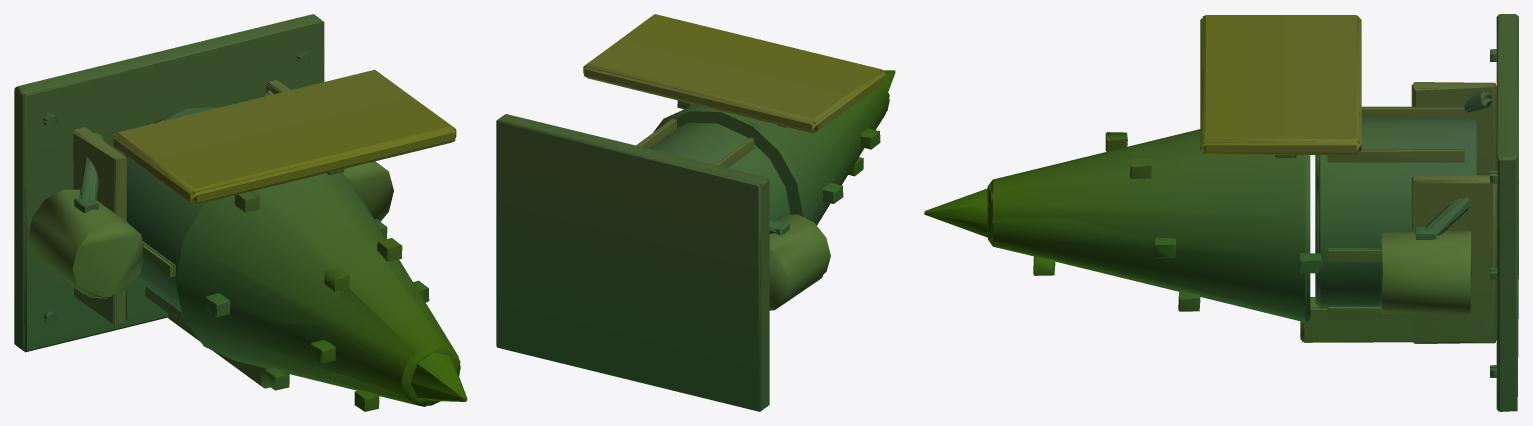
Rendered from RCLModule_heavy_artillery_subterranean_mole_borer_LODs.fbx.
3 renders of one model, left to right at view 1: azimuth 30°, elevation 25°; view 2: azimuth 150°, elevation 25°; view 3: azimuth 270°, elevation 25°, orthographic. The views are drawn at different scales.
Visible parts, largest first — view 1: LOD1_RCLModule_heavy_artillery_subterranean_mole_borer_Batch (×2), LOD2_RCLModule_heavy_artillery_subterranean_mole_borer_Batch (×2); view 2: LOD1_RCLModule_heavy_artillery_subterranean_mole_borer_Batch (×2), LOD2_RCLModule_heavy_artillery_subterranean_mole_borer_Batch (×2); view 3: LOD1_RCLModule_heavy_artillery_subterranean_mole_borer_Batch (×2), LOD2_RCLModule_heavy_artillery_subterranean_mole_borer_Batch (×2).
Boxes of the visible parts, bbox=[...] form: LOD1_RCLModule_heavy_artillery_subterranean_mole_borer_Batch (×2): bbox=[14, 14, 467, 411]; LOD2_RCLModule_heavy_artillery_subterranean_mole_borer_Batch (×2): bbox=[14, 18, 466, 410]; LOD1_RCLModule_heavy_artillery_subterranean_mole_borer_Batch (×2): bbox=[496, 14, 895, 411]; LOD2_RCLModule_heavy_artillery_subterranean_mole_borer_Batch (×2): bbox=[496, 17, 894, 411]; LOD1_RCLModule_heavy_artillery_subterranean_mole_borer_Batch (×2): bbox=[925, 14, 1518, 411]; LOD2_RCLModule_heavy_artillery_subterranean_mole_borer_Batch (×2): bbox=[924, 14, 1517, 411].
Size of the model in its own units: 36.26 by 28.9 by 59.03.
